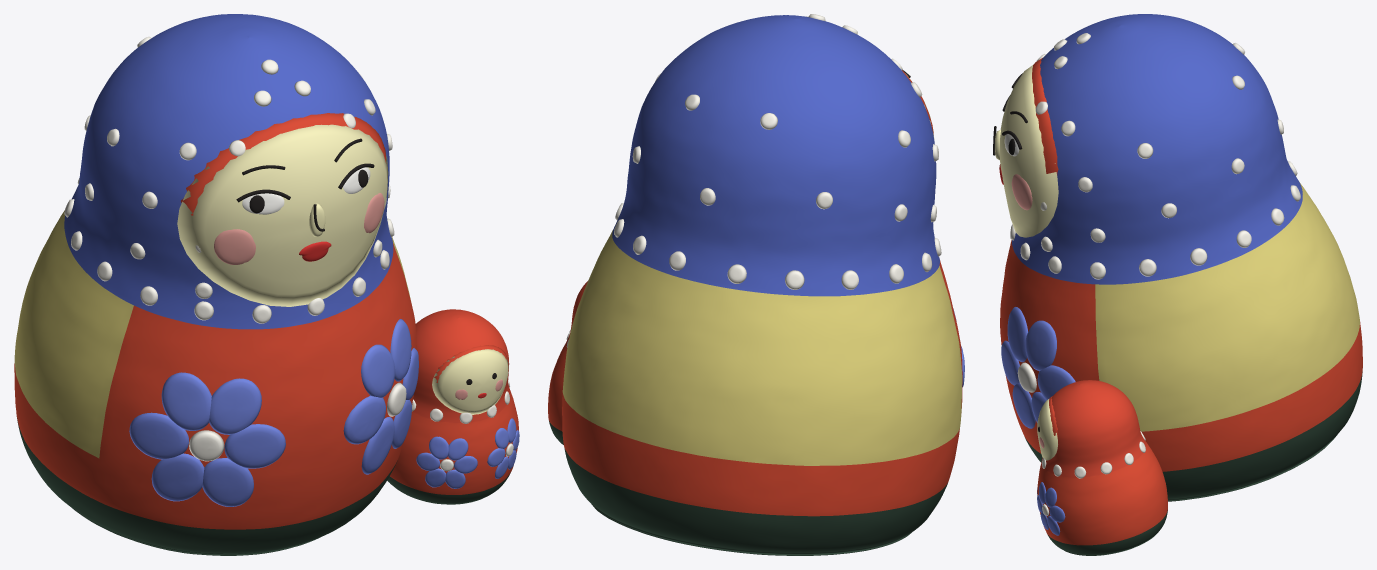
The model's file is Stack 6D - Doll.glb.
3 views of the same model, side by side, from view 1: azimuth 30°, elevation 25°; view 2: azimuth 150°, elevation 25°; view 3: azimuth 270°, elevation 25° (orthographic). The views are drawn at different scales.
Parts seen in each view (by area): view 1: Stack 6D - Doll · part 1, Stack 6D - Doll · part 2; view 2: Stack 6D - Doll · part 1, Stack 6D - Doll · part 2; view 3: Stack 6D - Doll · part 1, Stack 6D - Doll · part 2.
Boxes of the visible parts, x1=… form: Stack 6D - Doll · part 1: x1=14, y1=14, x2=418, y2=555; Stack 6D - Doll · part 2: x1=387, y1=309, x2=519, y2=504; Stack 6D - Doll · part 1: x1=562, y1=14, x2=964, y2=555; Stack 6D - Doll · part 2: x1=548, y1=281, x2=587, y2=444; Stack 6D - Doll · part 1: x1=993, y1=14, x2=1362, y2=501; Stack 6D - Doll · part 2: x1=1037, y1=380, x2=1167, y2=555.
Size of the model in its own units: 0.9136 by 1 by 0.7734.
